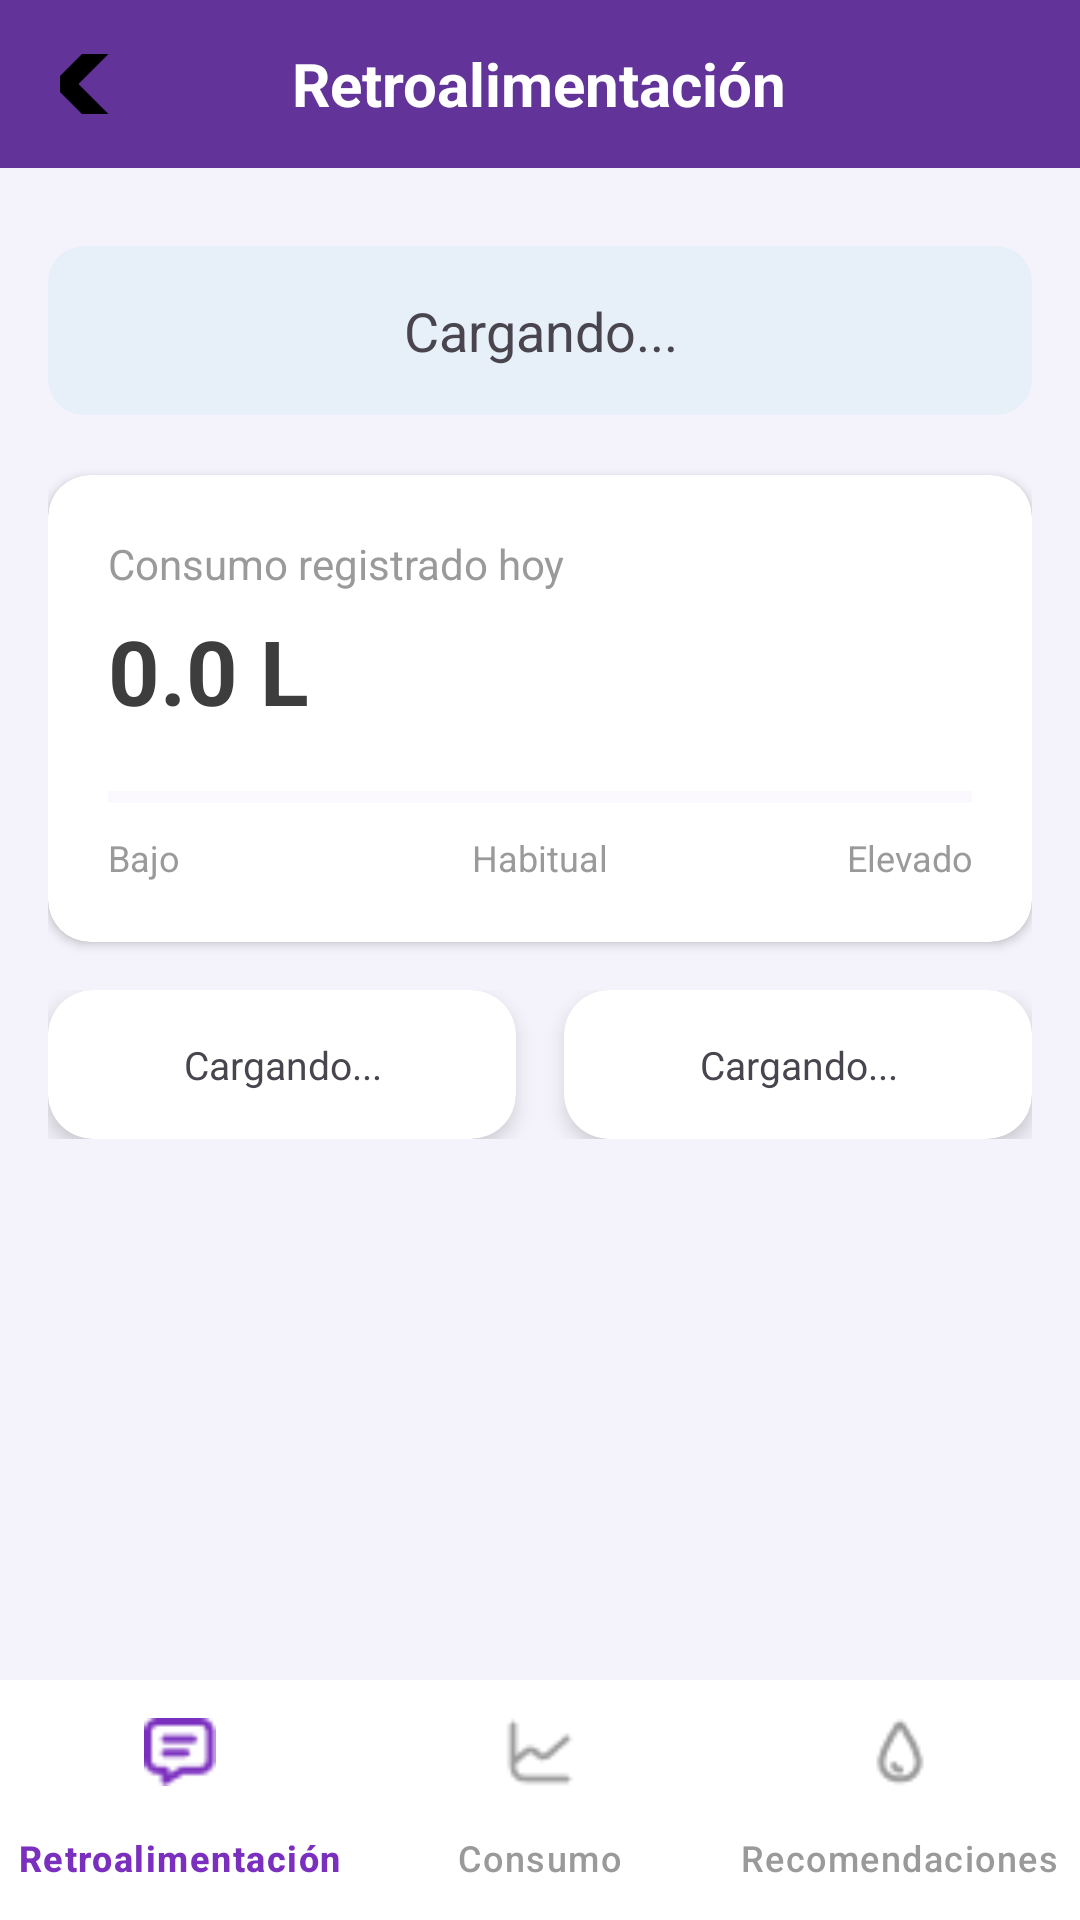

Screen size 1080x1920. Icon name, then its center in pixels as [x,y]:
back: [84,84]
